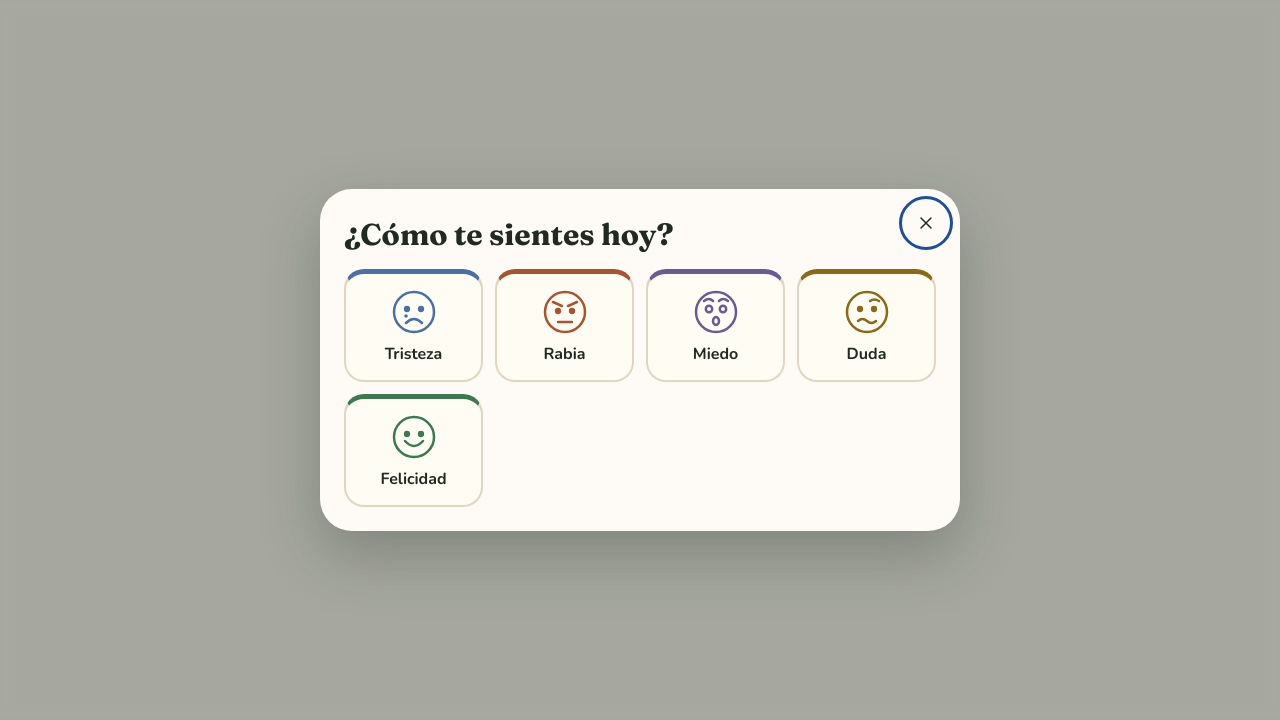
Test: FlujoDesahogo › HU-06: el mensaje de apoyo › si no se pudo guardar no hay mensaje: la persona sigue en la hoja con lo que escribió
The image size is (1280, 720).
Click the button "Miedo" at (716, 326), box 646,269 -> 785,382
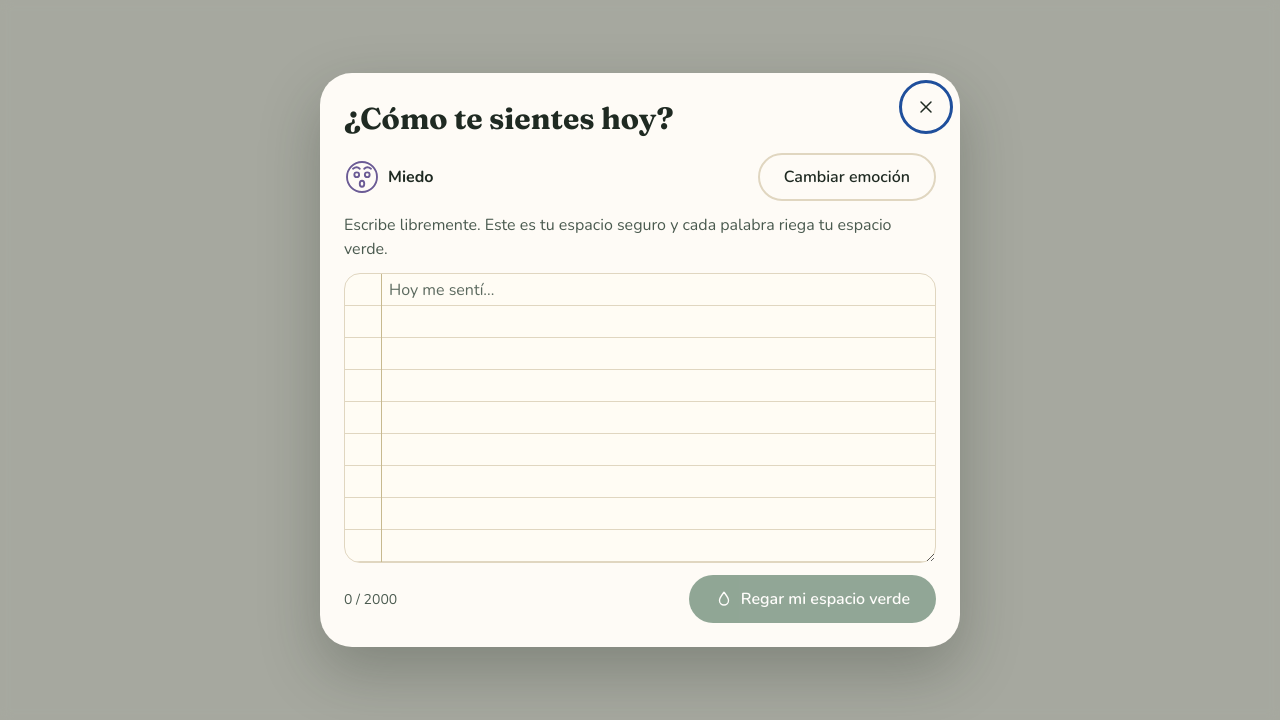
Type "tengo miedo" into the text box named "Escribe lo que sientes" at (640, 418), box 344,273 -> 936,563
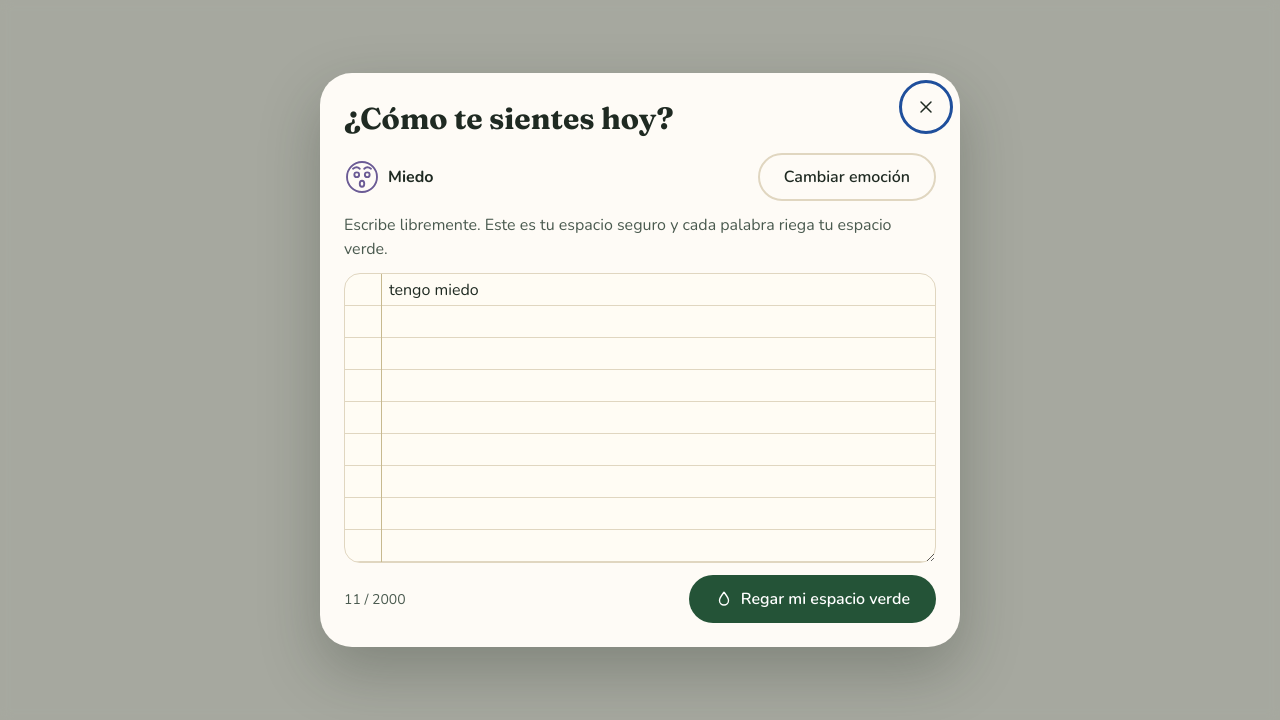
Click the button "Regar mi espacio verde" at (812, 599), box 689,575 -> 936,623
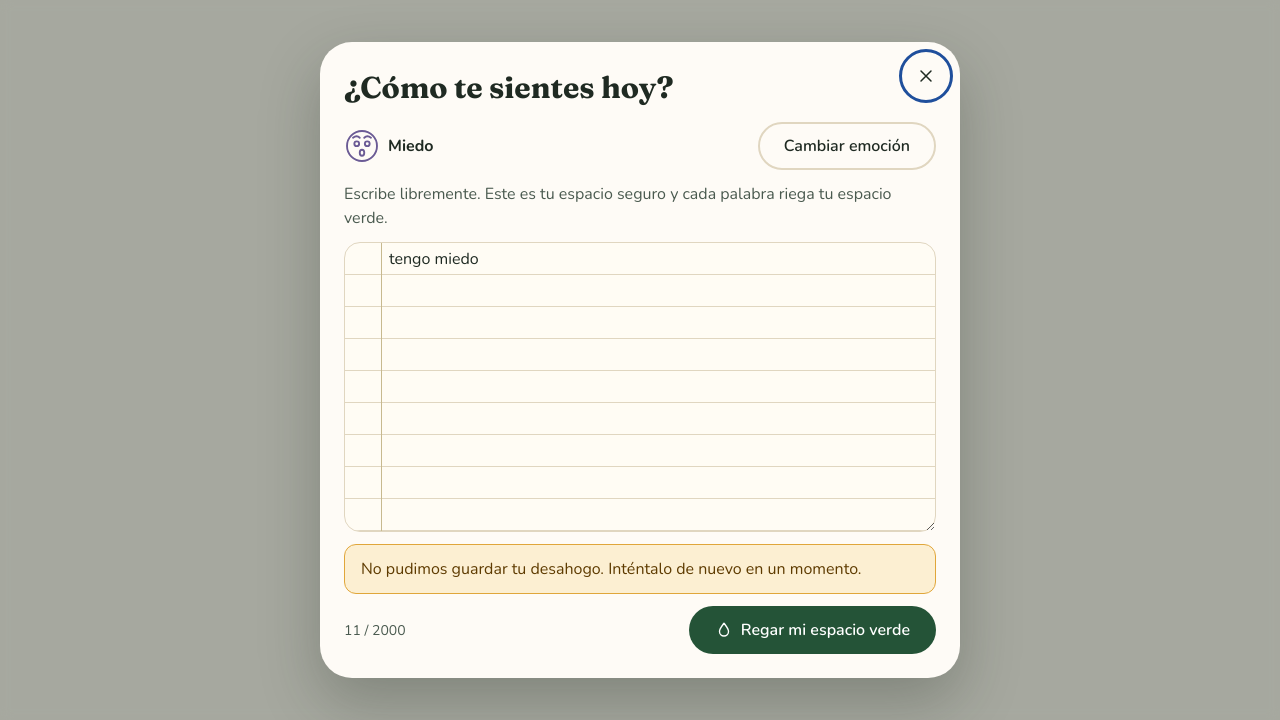
Now the message "No pudimos guardar tu desahogo. Inténtalo de nuevo en un momento." is shown, box 344,544 -> 936,594
